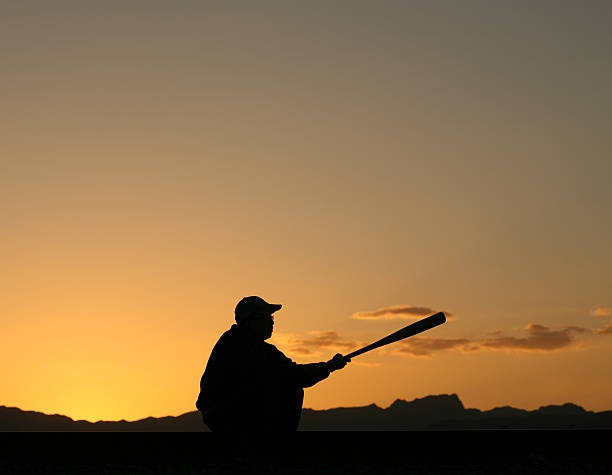bita: (346, 309, 448, 361)
